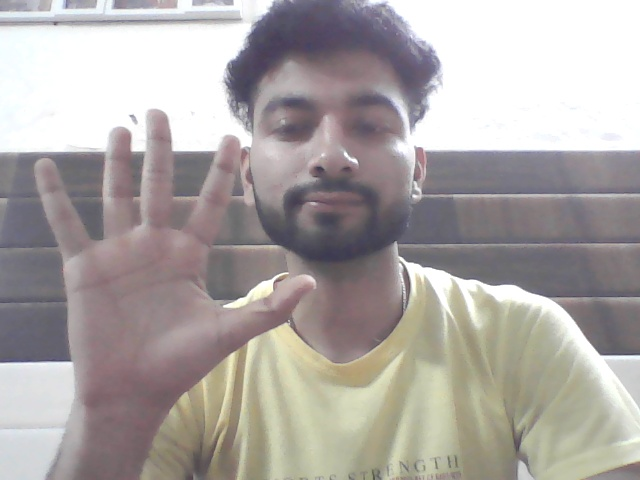Hello: (29, 103, 320, 413)
